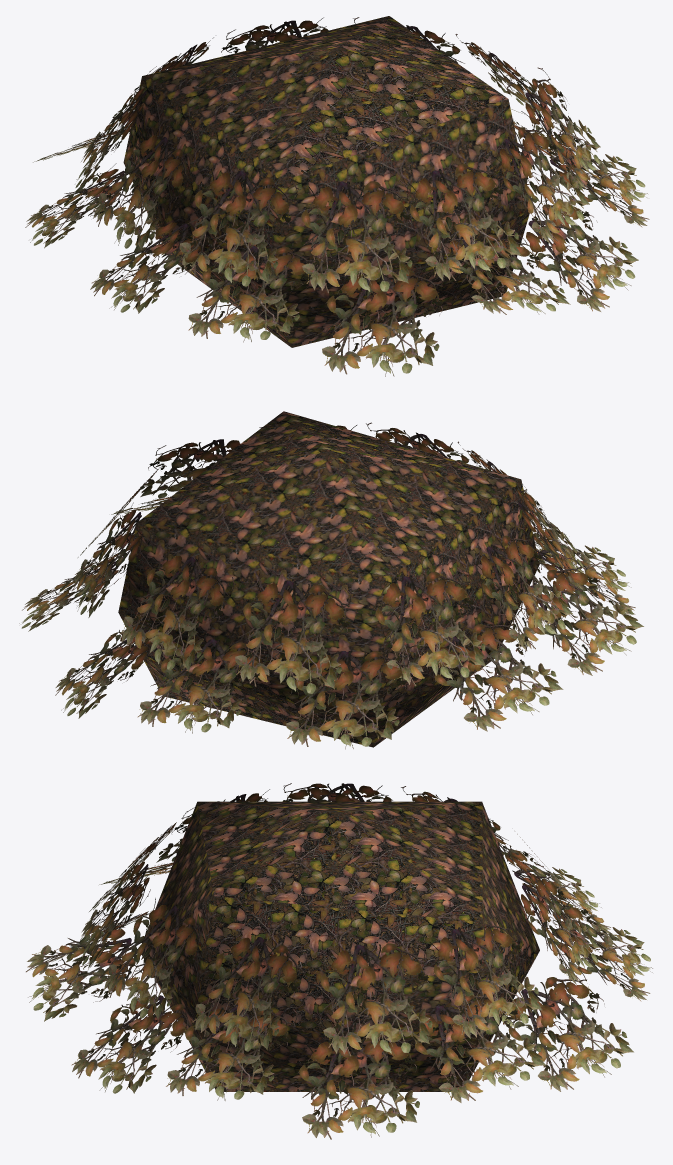
File: poi_all_lair_leaf_large_l3.fbx
3 views of the same model, one above another, from view 1: azimuth 30°, elevation 25°; view 2: azimuth 150°, elevation 25°; view 3: azimuth 270°, elevation 25° (orthographic).
Parts seen in each view (by area): view 1: mesh_node; view 2: mesh_node; view 3: mesh_node.
Boxes of the visible parts, x1,y1,x2,y2 form: mesh_node: [25, 16, 649, 376]; mesh_node: [19, 411, 643, 749]; mesh_node: [26, 783, 652, 1139].
Size of the model in its own units: 5.04 by 1.98 by 5.1.
Materials: 2 (2 with a texture image).
